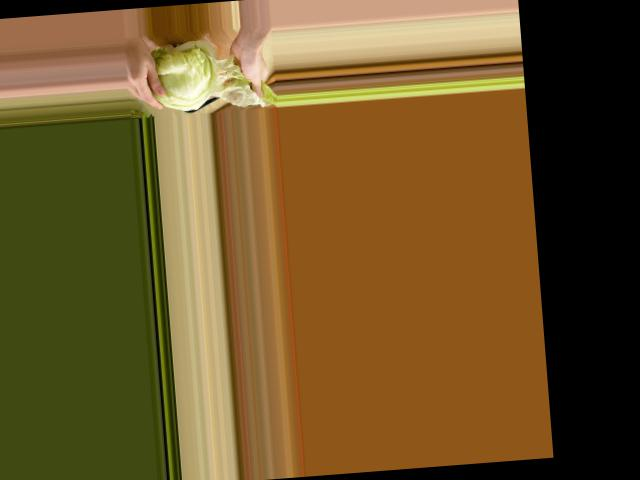lettuce: (144, 33, 236, 116)
